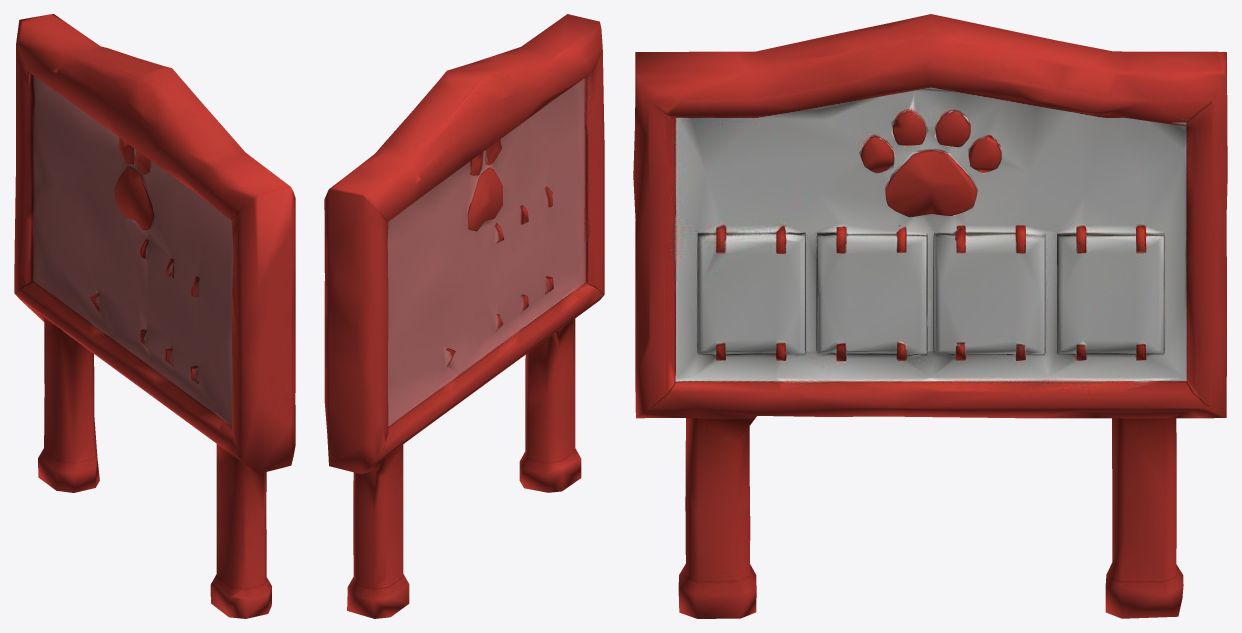
File: score-board.glb
3 renders of one model, left to right at view 1: azimuth 30°, elevation 25°; view 2: azimuth 150°, elevation 25°; view 3: azimuth 270°, elevation 25°, orthographic. The views are drawn at different scales.
Parts seen in each view (by area): view 1: tripo_node_242b077d-9700-417b-b858-e46880cd3ae0; view 2: tripo_node_242b077d-9700-417b-b858-e46880cd3ae0; view 3: tripo_node_242b077d-9700-417b-b858-e46880cd3ae0.
Part boxes in pixels (x1,y1,x2,y2): tripo_node_242b077d-9700-417b-b858-e46880cd3ae0: (14,14,295,618); tripo_node_242b077d-9700-417b-b858-e46880cd3ae0: (324,14,604,618); tripo_node_242b077d-9700-417b-b858-e46880cd3ae0: (633,14,1227,618).
Bounding box in the file's own units: 0.1333 × 1 × 0.9261.
Materials: 1 (1 with a texture image).
